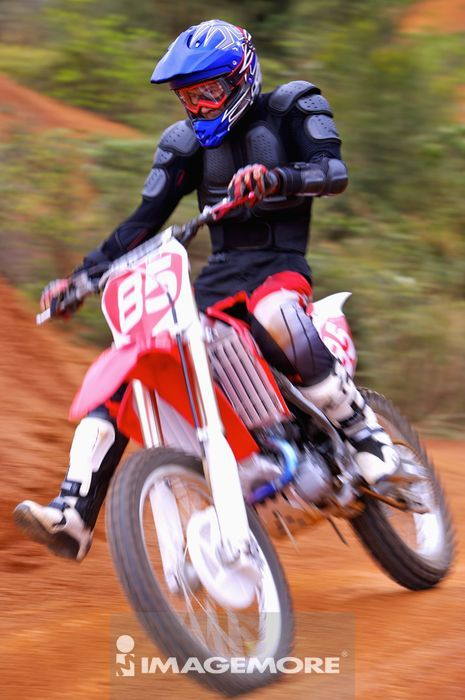helmet: (153, 20, 252, 138)
